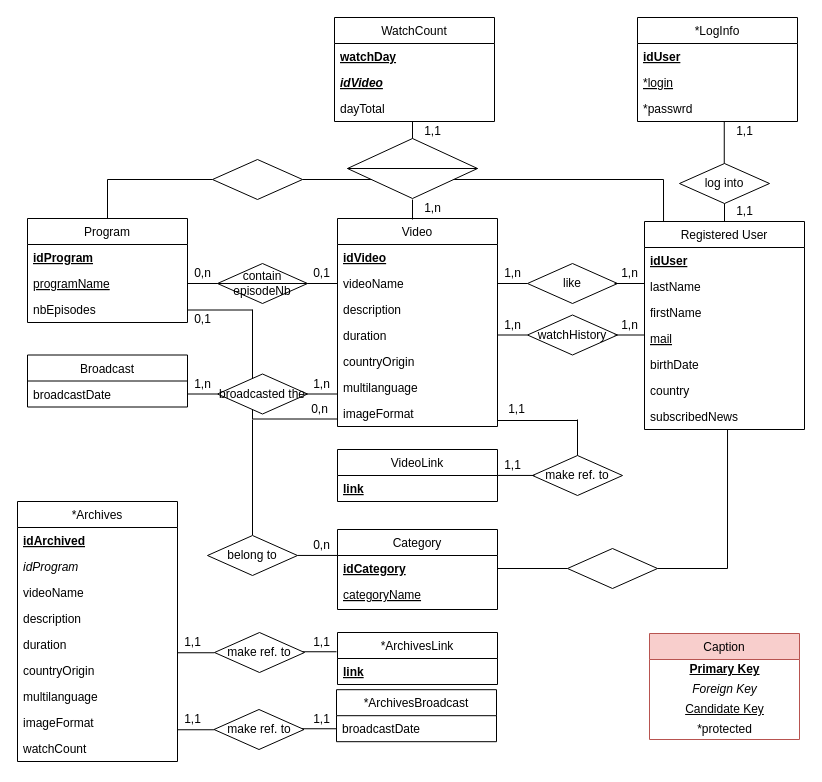
Some shapes in this 822 by 782 pixel diagram are drawn without their labels. The shapes that lost their labels are listed below. From the top down, each one's centre as x and y in pixels, then its label:
At (257,179): "follow".
At (412,168): "nb of watch ? totalWatchCount".
At (612,568): "interested".
